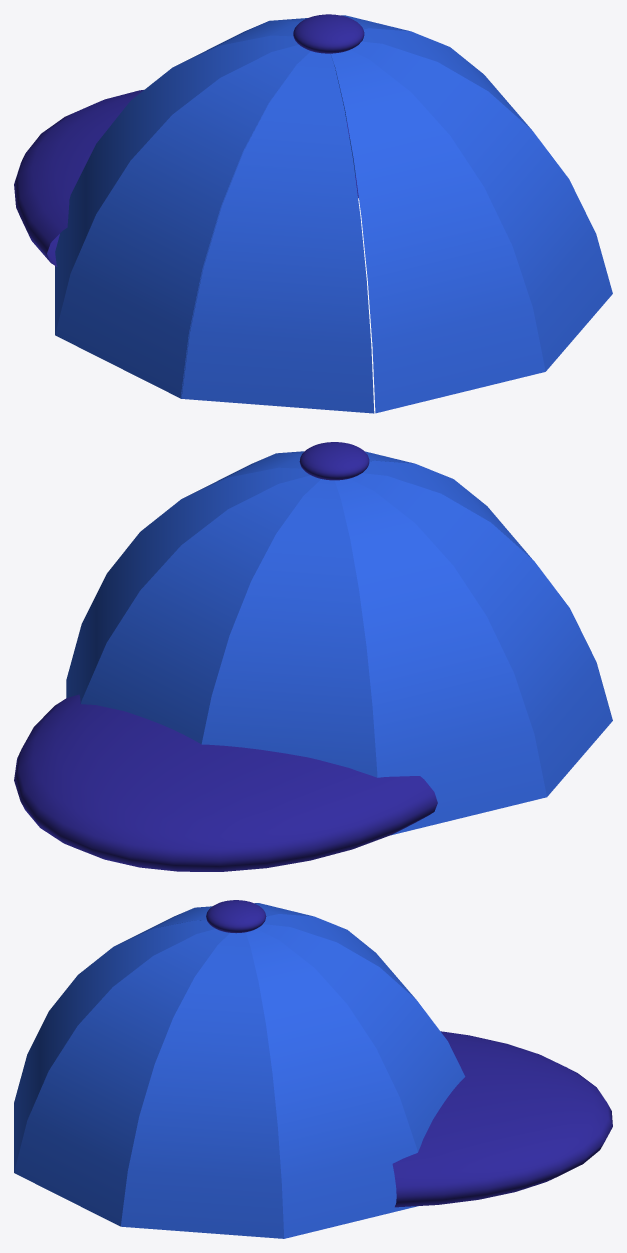
The model's file is Cap.fbx.
3 views of the same model, one above another, from view 1: azimuth 30°, elevation 25°; view 2: azimuth 150°, elevation 25°; view 3: azimuth 270°, elevation 25° (orthographic). The views are drawn at different scales.
Visible parts, largest first — view 1: Sphere.009, Sphere.008, Sphere.007, Sphere.006, Sphere.001, Sphere, Sphere.005, Sphere.010, Sphere.002; view 2: Sphere, Sphere.001, Sphere.002, Sphere.003, Sphere.007, Sphere.004, Sphere.009, Sphere.010, Sphere.005; view 3: Sphere.005, Sphere.004, Sphere.006, Sphere, Sphere.003, Sphere.008, Sphere.002, Sphere.010, Sphere.009.
Boxes of the visible parts, x1,y1,x2,y2 form: Sphere.009: (180,51,374,413); Sphere.008: (331,50,545,413); Sphere.007: (55,45,310,398); Sphere.006: (350,41,612,371); Sphere.001: (55,35,298,334); Sphere: (14,90,358,266); Sphere.005: (362,28,531,129); Sphere.010: (293,14,364,53); Sphere.002: (174,21,298,66); Sphere: (14,694,437,871); Sphere.001: (334,479,546,835); Sphere.002: (201,479,377,777); Sphere.003: (81,475,320,744); Sphere.007: (349,473,612,796); Sphere.004: (66,467,310,703); Sphere.009: (362,460,610,713); Sphere.010: (299,442,369,480); Sphere.005: (182,453,302,498); Sphere.005: (120,932,284,1238); Sphere.004: (245,929,418,1238); Sphere.006: (14,929,229,1226); Sphere: (392,1031,612,1207); Sphere.003: (256,924,465,1152); Sphere.008: (14,920,215,1172); Sphere.002: (263,914,416,999); Sphere.010: (206,900,266,933); Sphere.009: (91,907,209,964).
Size of the model in its own units: 193 by 113 by 242.
